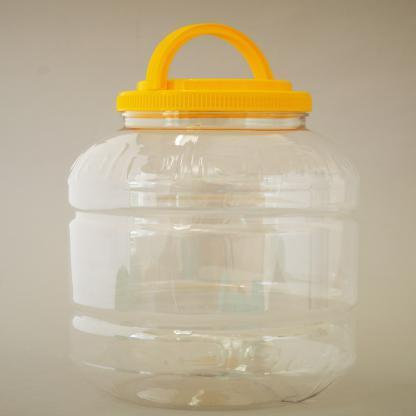bottle: (46, 11, 387, 408)
